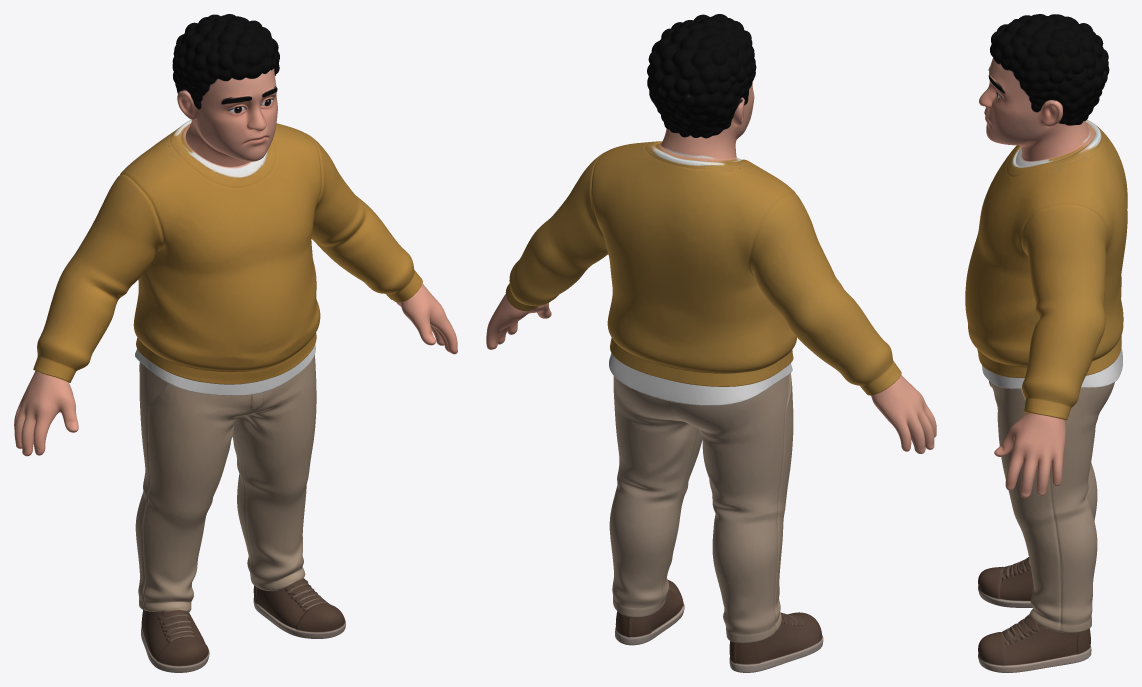
File: tomas.glb
3 views of the same model, side by side, from view 1: azimuth 30°, elevation 25°; view 2: azimuth 150°, elevation 25°; view 3: azimuth 270°, elevation 25° (orthographic).
Size of the model in its own units: 1.41 by 1.9 by 0.4596.
1 material, 1 textured.
